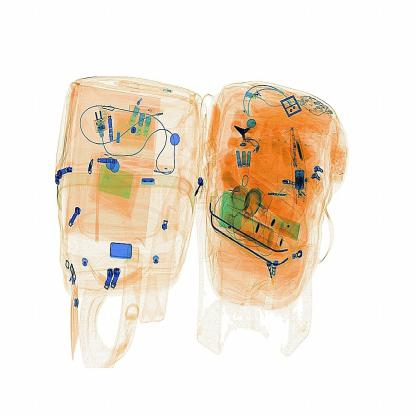gun: (227, 116, 263, 152)
